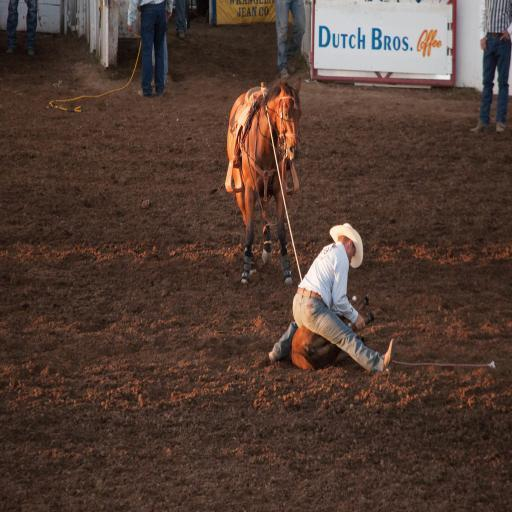horse: (224, 78, 302, 286)
